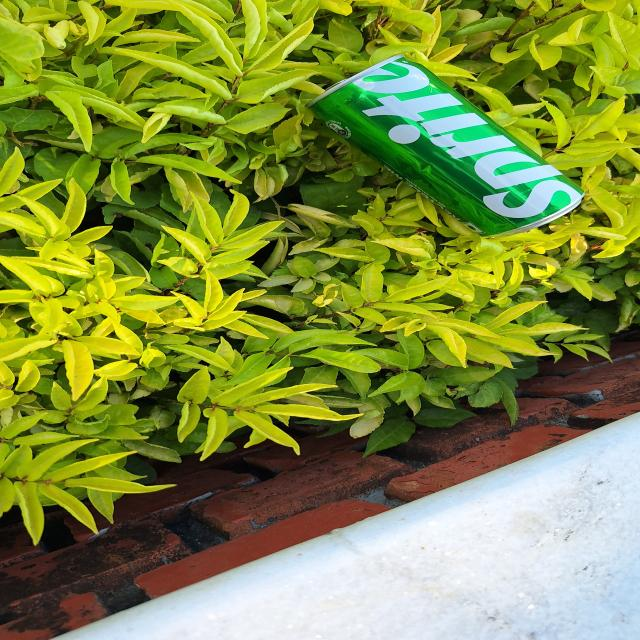Sprite: (320, 54, 586, 224)
